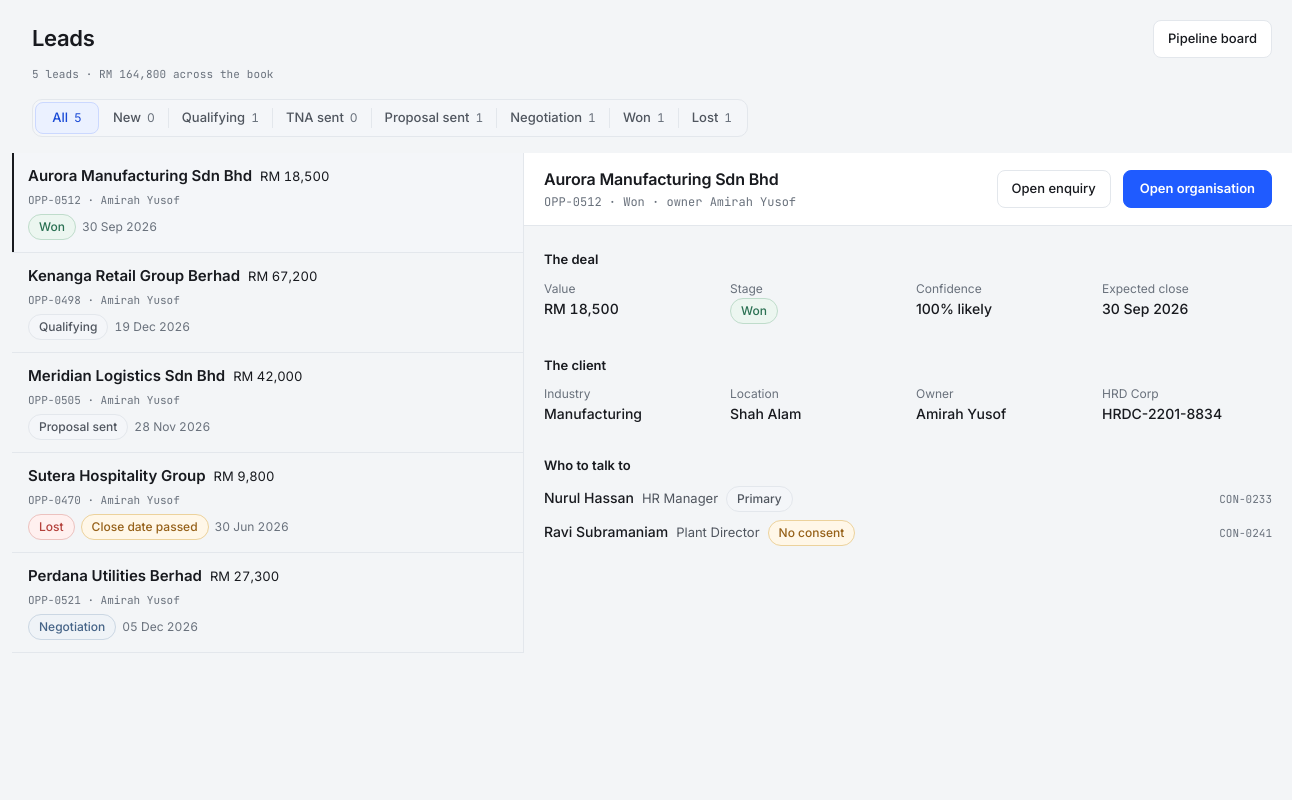
Test case: Sales › Leads › filters the queue to one stage, and counts it once
The width and height of the screenshot is (1292, 800).
Step 1. Click the tab "New 0" → click(134, 118), box [100,102,168,134]
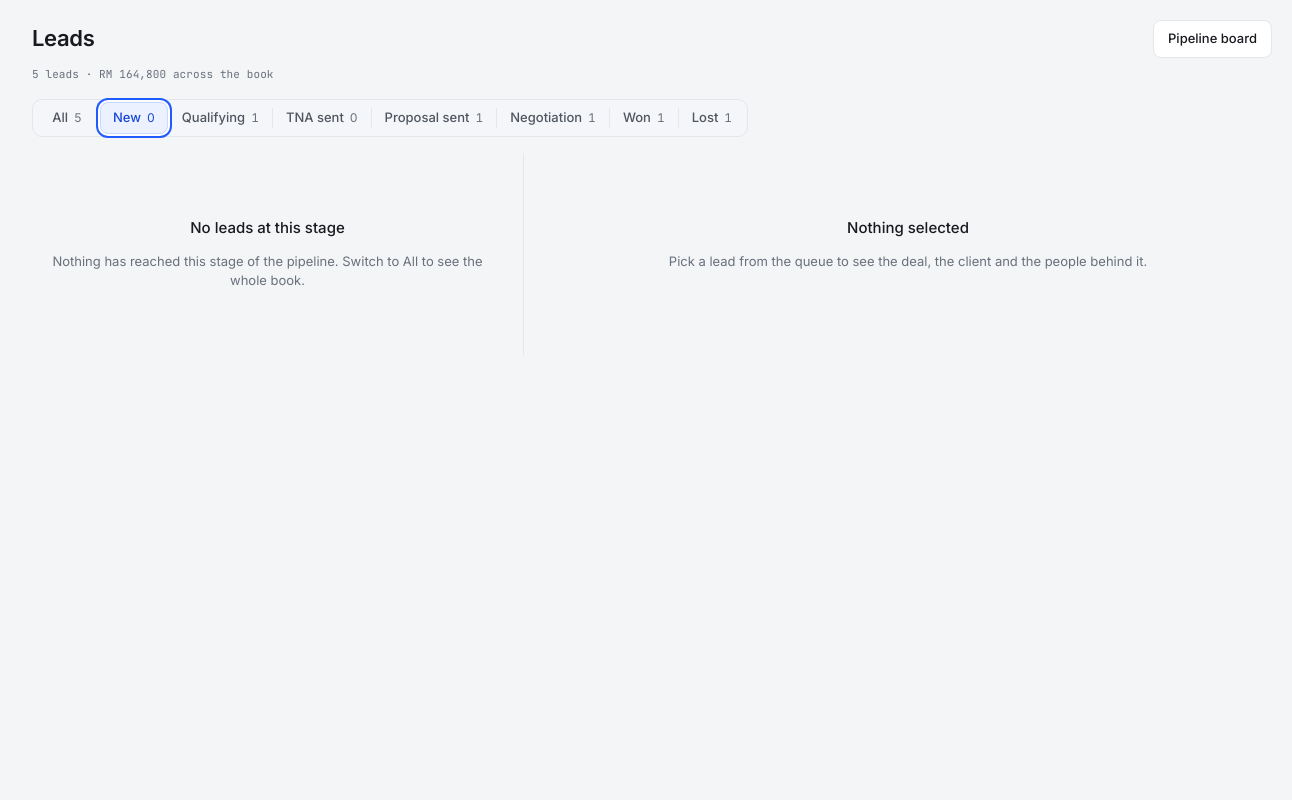
Expected: the text "No leads at this stage" is shown, [190,217,345,240]
